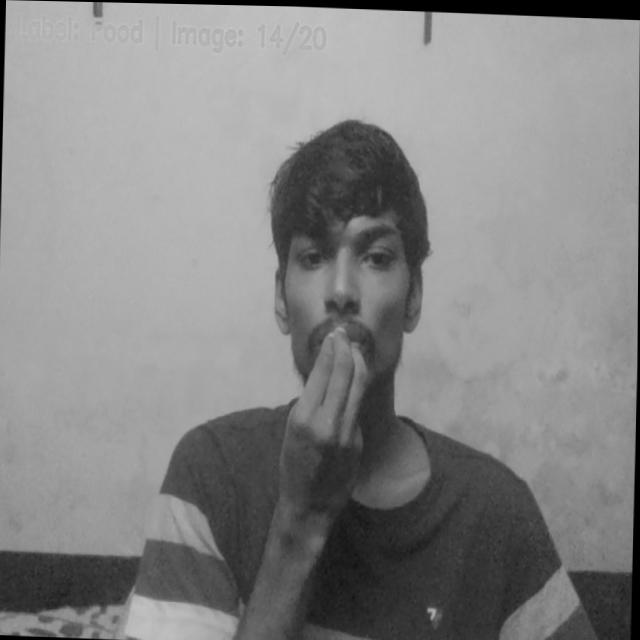Food: (280, 320, 376, 515)
